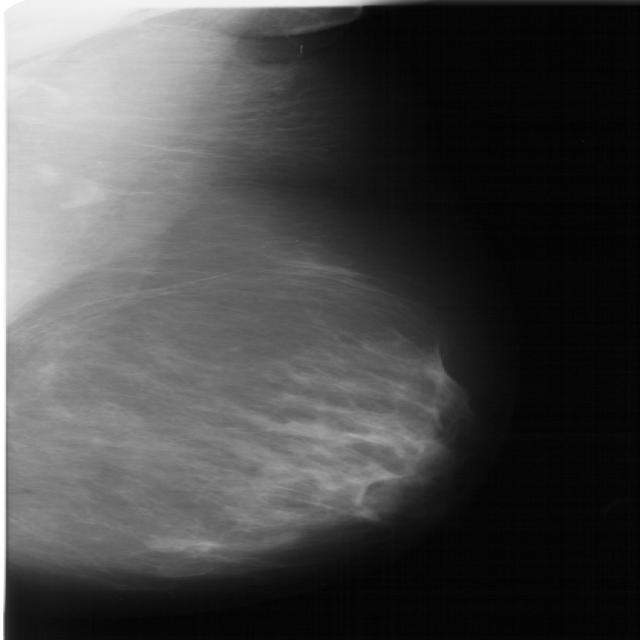tumour: (141, 538, 190, 552)
